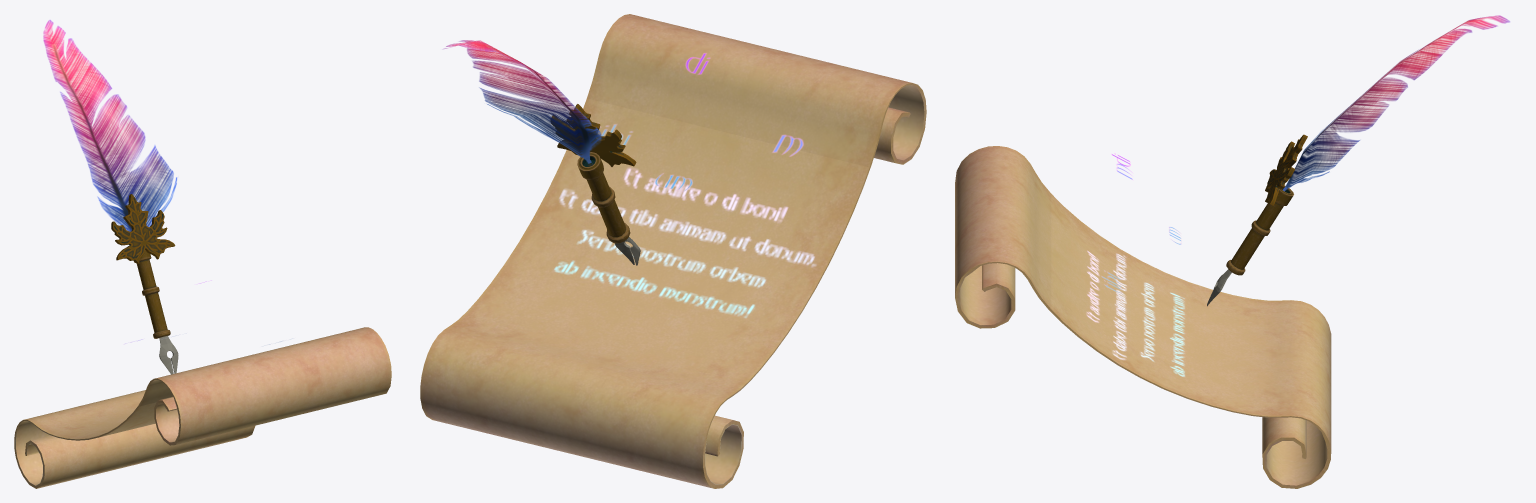
The model's file is quill.glb.
The picture shows the model from 3 angles, left to right: view 1: azimuth 30°, elevation 25°; view 2: azimuth 150°, elevation 25°; view 3: azimuth 270°, elevation 25°; orthographic projection. The views are drawn at different scales.
Parts seen in each view (by area): view 1: g; view 2: g; view 3: g.
Boxes of the visible parts, x1,y1,x2,y2 form: g: (14, 20, 391, 488); g: (420, 14, 926, 488); g: (955, 15, 1509, 488).
Bounding box in the file's own units: 0.2911 × 0.4896 × 0.6012.
Materials: 1 (1 with a texture image).
